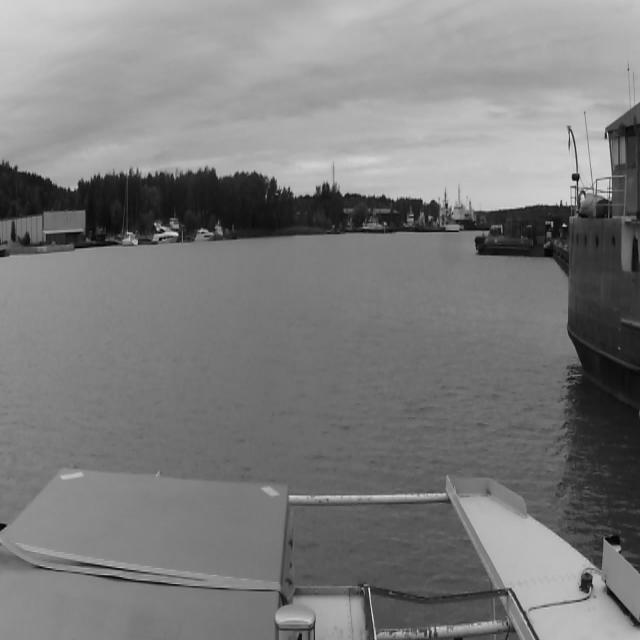ship: (122, 172, 138, 246), (152, 222, 178, 244), (195, 228, 213, 244)
